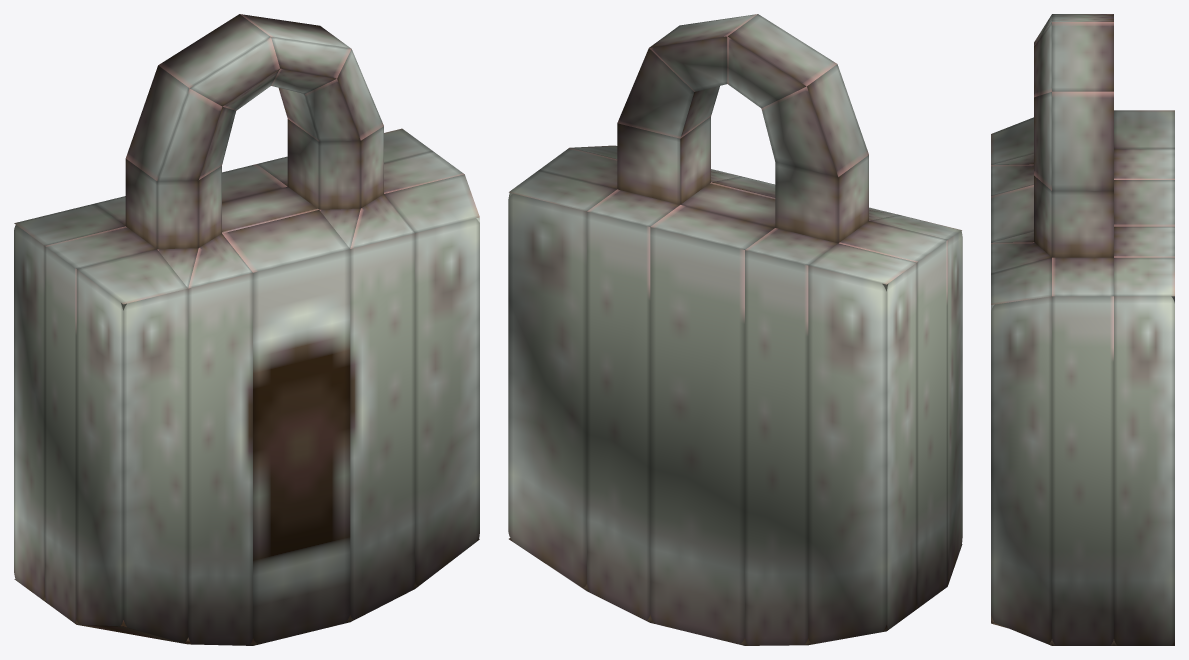
3 renders of one model, left to right at view 1: azimuth 30°, elevation 25°; view 2: azimuth 150°, elevation 25°; view 3: azimuth 270°, elevation 25°, orthographic. The views are drawn at different scales.
Visible parts, largest first — view 1: T1L2M002_29; view 2: T1L2M002_29; view 3: T1L2M002_29.
Part boxes in pixels (x1,y1,x2,y2): T1L2M002_29: (14, 14, 479, 645); T1L2M002_29: (508, 14, 962, 645); T1L2M002_29: (991, 14, 1174, 645).
Size of the model in its own units: 0.4795 by 0.6973 by 0.2002.
